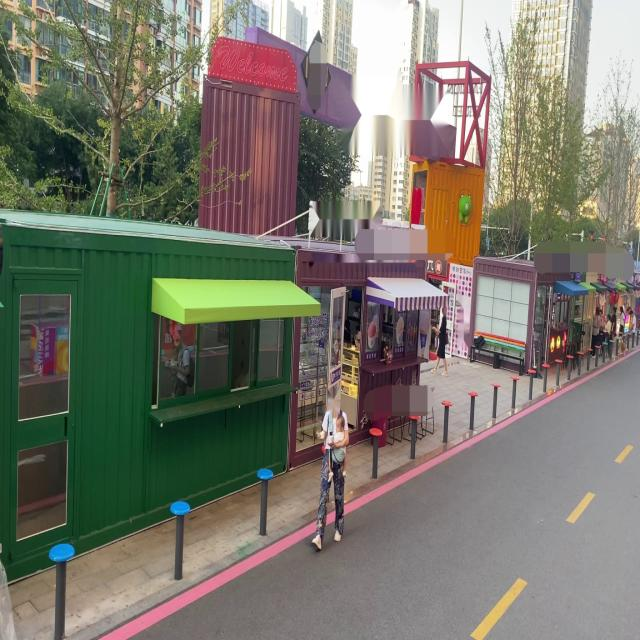fixed_stall: (292, 200, 426, 399), (531, 244, 578, 330)
sunshade: (150, 276, 322, 326), (365, 276, 450, 311), (553, 279, 589, 296), (590, 282, 607, 292), (580, 282, 596, 292), (602, 282, 618, 290), (612, 282, 626, 290), (620, 282, 634, 290), (631, 283, 640, 290)
